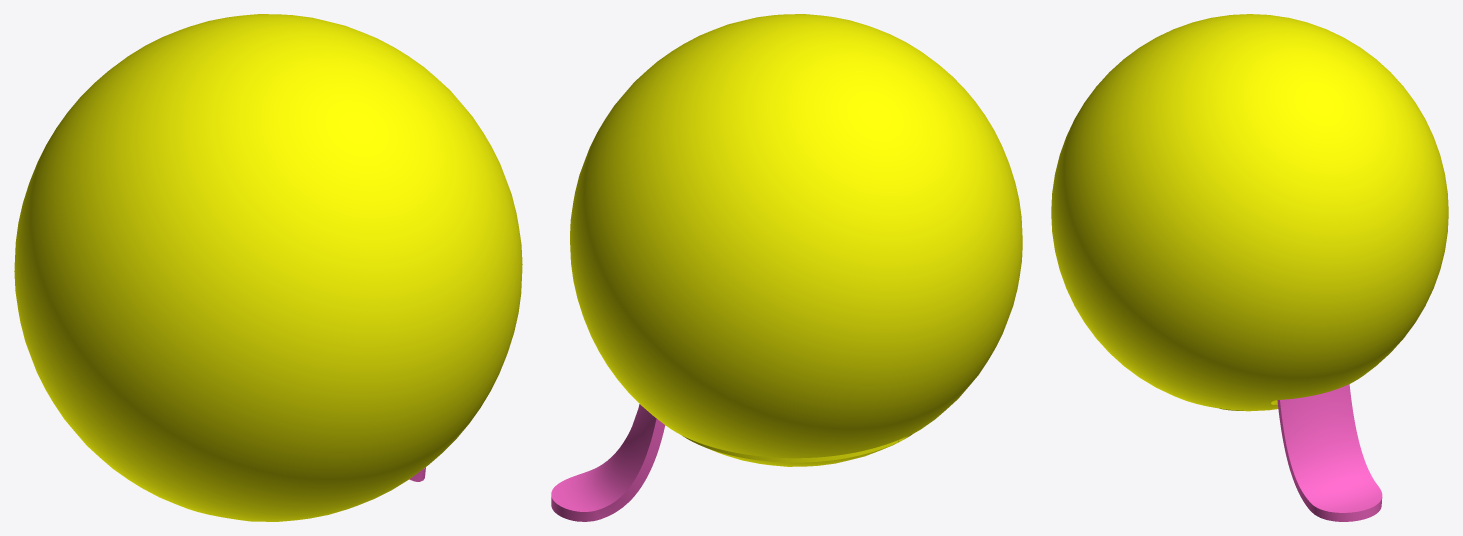
The model's file is tongue.fbx.
3 renders of one model, left to right at view 1: azimuth 30°, elevation 25°; view 2: azimuth 150°, elevation 25°; view 3: azimuth 270°, elevation 25°, orthographic. The views are drawn at different scales.
Visible parts, largest first — view 1: Object_1; view 2: Object_1, Object_3; view 3: Object_1, Object_3.
Part boxes in pixels (<box>): Object_1: <box>14,14,522,521</box>; Object_1: <box>570,14,1022,466</box>; Object_3: <box>551,404,665,521</box>; Object_1: <box>1051,14,1448,411</box>; Object_3: <box>1277,384,1382,521</box>.
Size of the model in its own units: 39.43 by 44.86 by 39.43.
